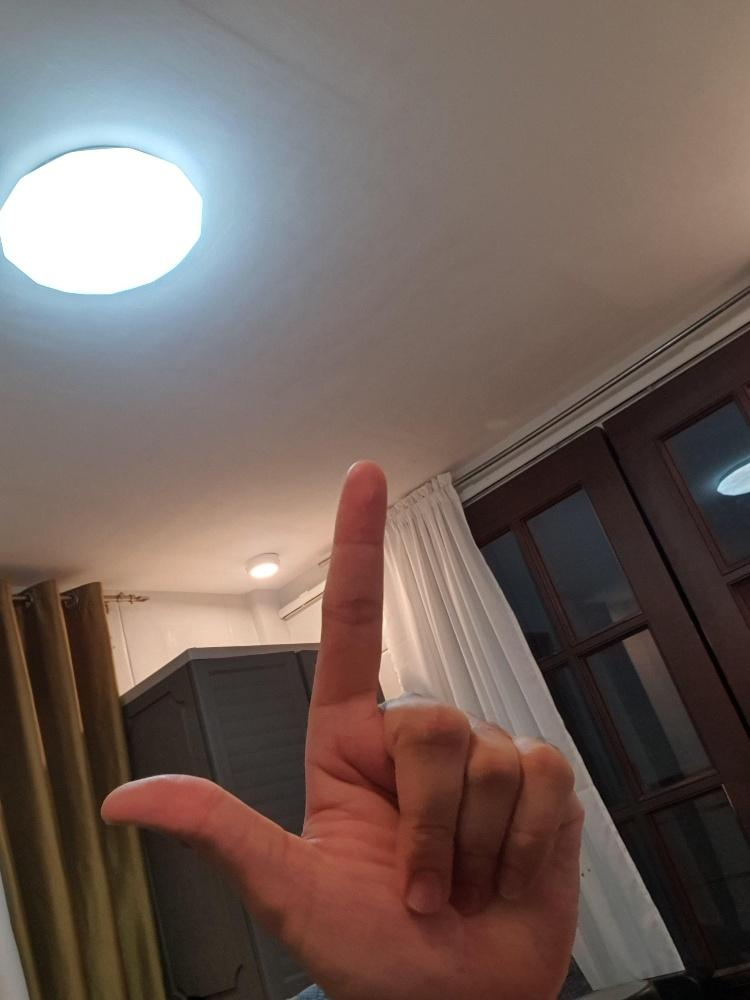l: (94, 454, 590, 999)
